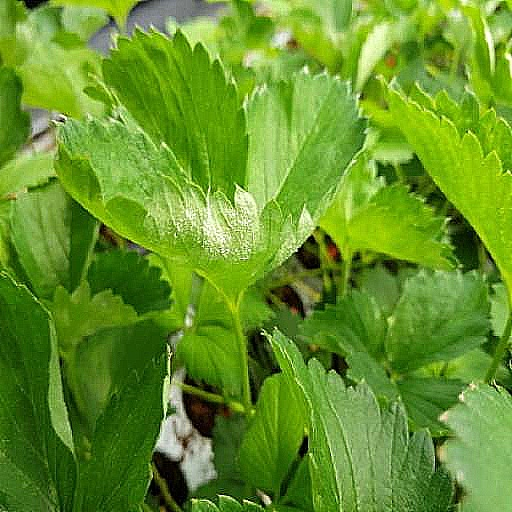Powdery Mildew Leaf: (227, 202, 462, 401), (141, 224, 270, 450)
